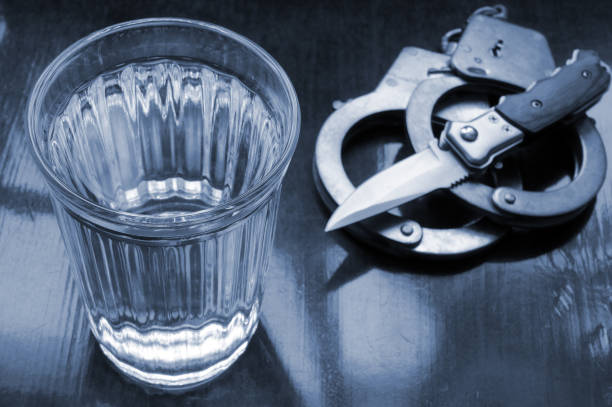knife: (323, 48, 612, 233)
